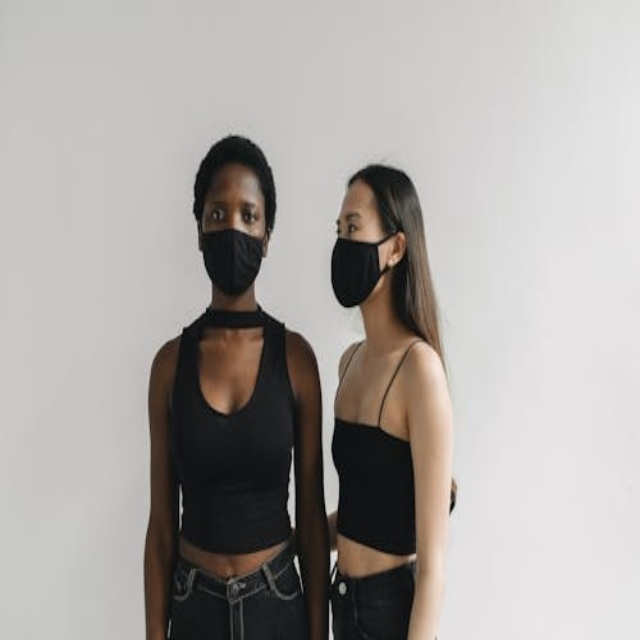Mascara: (332, 230, 399, 306), (200, 226, 265, 295)
Sin_gafas: (202, 192, 262, 225), (333, 209, 374, 233)
